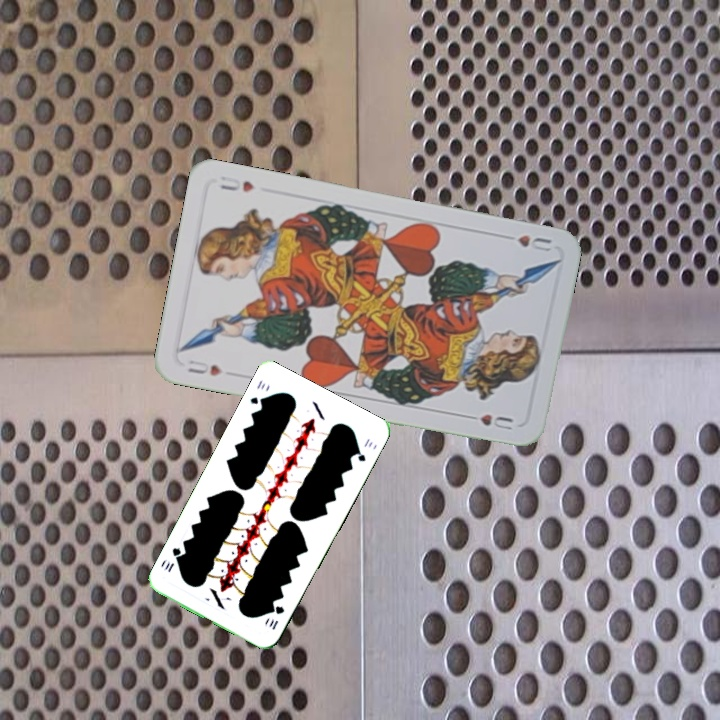G10: (246, 375, 268, 408), (264, 601, 287, 632)
HU: (513, 230, 554, 254), (184, 356, 225, 379)
